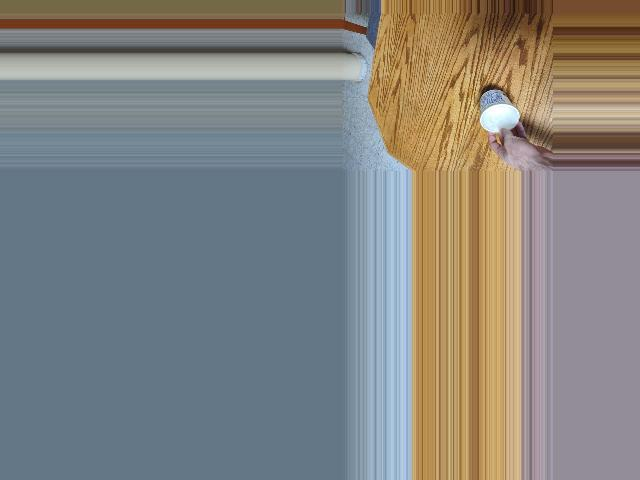cotage: (480, 91, 511, 133)
